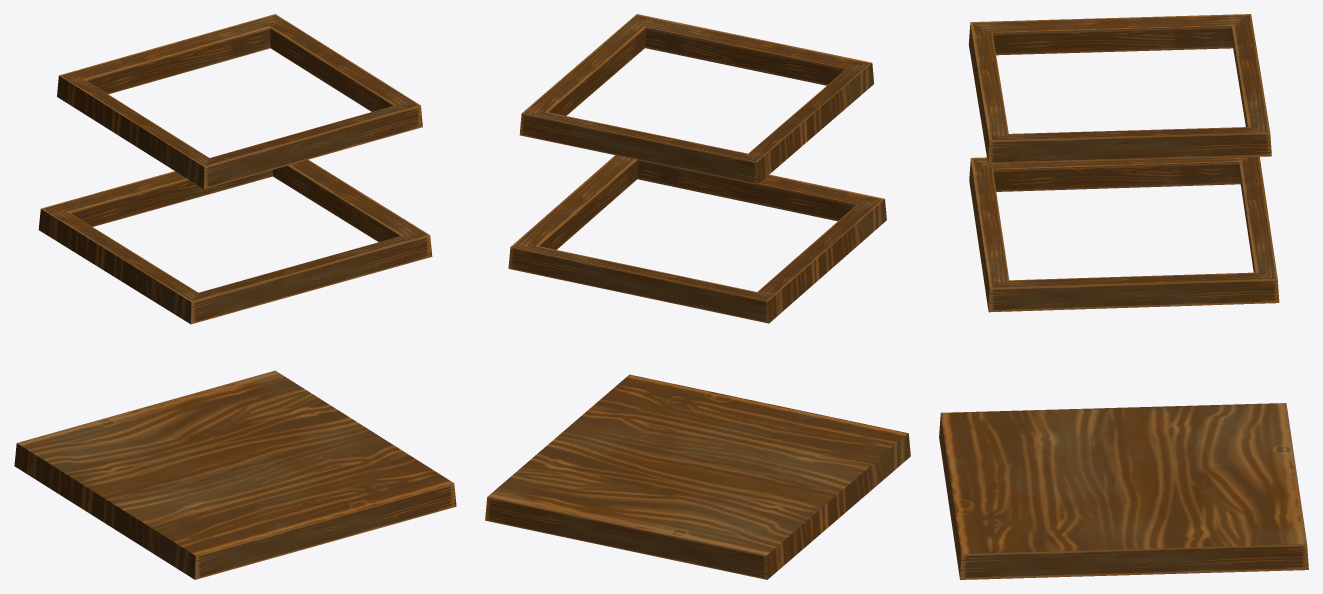
3 views of the same model, side by side, from view 1: azimuth 30°, elevation 25°; view 2: azimuth 150°, elevation 25°; view 3: azimuth 270°, elevation 25° (orthographic). The views are drawn at different scales.
Visible parts, largest first — view 1: Cube.1504; view 2: Cube.1504; view 3: Cube.1504.
Part boxes in pixels (x1,y1,x2,y2): Cube.1504: (14, 14, 456, 579); Cube.1504: (485, 14, 910, 579); Cube.1504: (939, 14, 1308, 579).
Size of the model in its own units: 556 by 726 by 569.
1 material, 1 textured.
